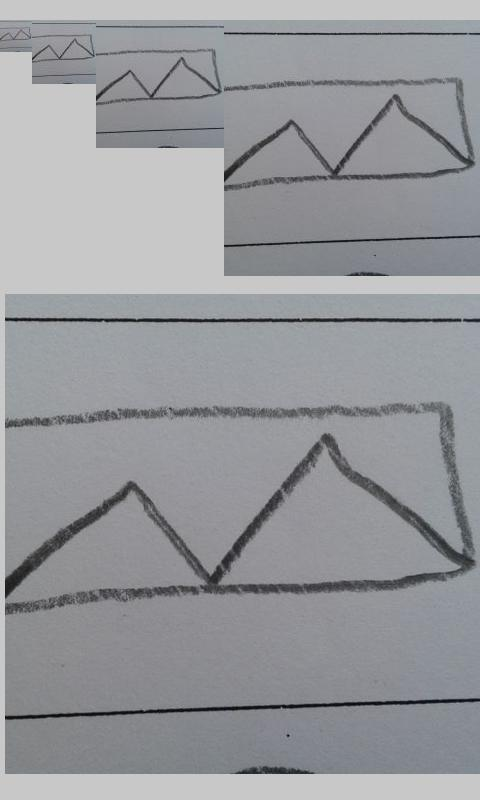image_view: (6, 403, 472, 618), (228, 75, 474, 197), (96, 48, 223, 105), (32, 34, 94, 63), (1, 27, 31, 42)
